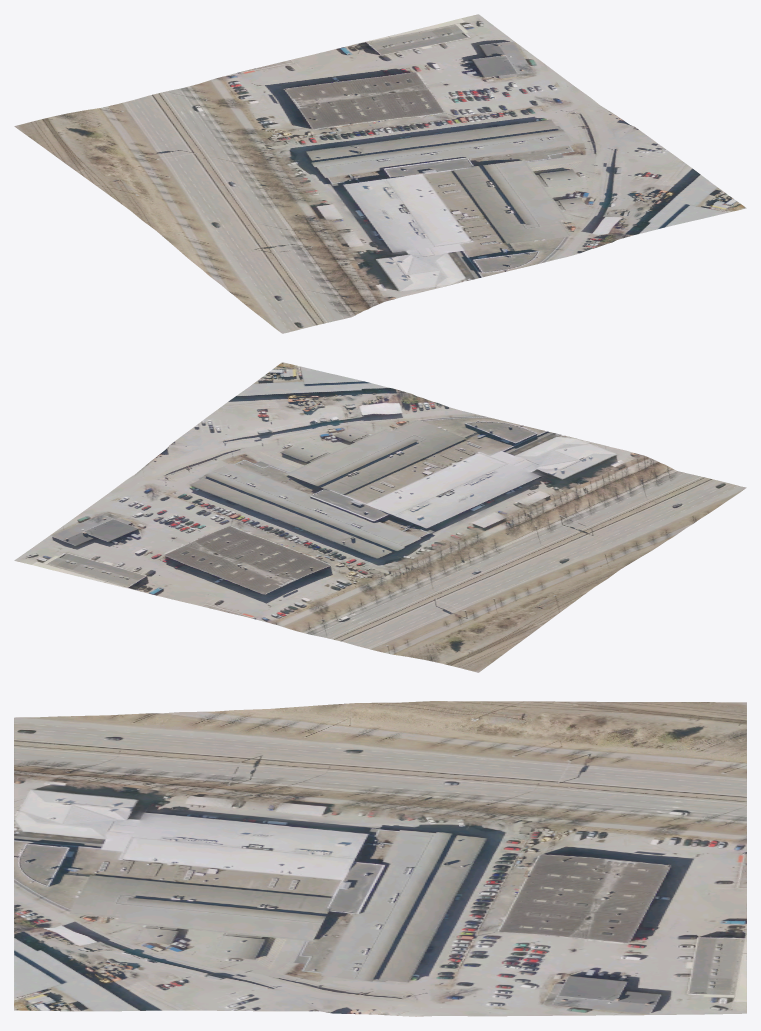
Rendered from CM_Terrain_24488001_6818975.fbx.
The picture shows the model from 3 angles, top to bottom: view 1: azimuth 30°, elevation 25°; view 2: azimuth 150°, elevation 25°; view 3: azimuth 270°, elevation 25°; orthographic projection. The views are drawn at different scales.
Parts seen in each view (by area): view 1: CM_Terrain_24488001_6818975_LOD0; view 2: CM_Terrain_24488001_6818975_LOD0; view 3: CM_Terrain_24488001_6818975_LOD0.
Part boxes in pixels (<box>): CM_Terrain_24488001_6818975_LOD0: <box>14,14,746,333</box>; CM_Terrain_24488001_6818975_LOD0: <box>14,362,746,672</box>; CM_Terrain_24488001_6818975_LOD0: <box>14,701,746,1016</box>.
Size of what is drawn, in the model's own units: 205 by 5.64 by 205.
